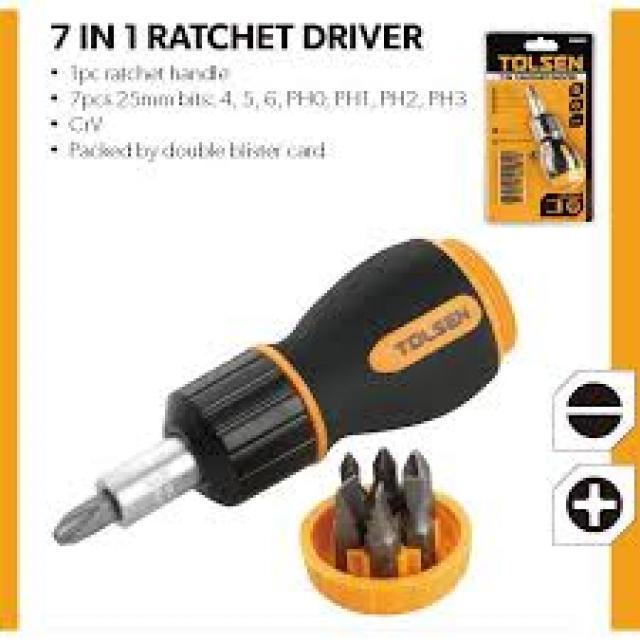screwdriver: (49, 230, 516, 555)
